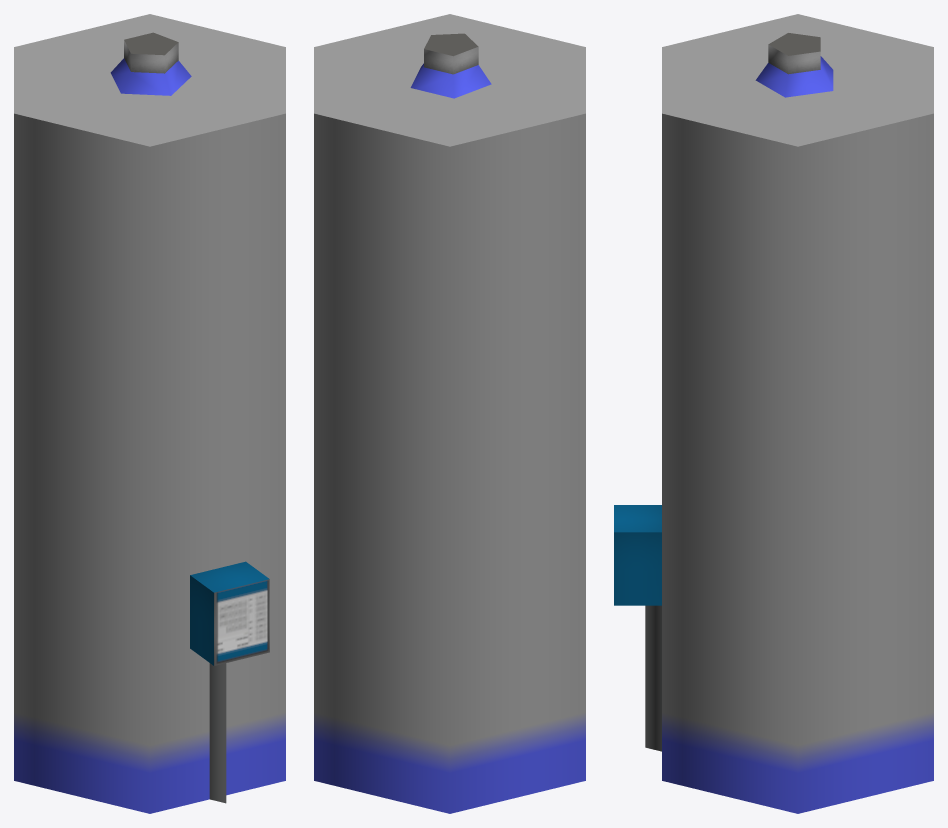
The model's file is WaterHeater.fbx.
3 views of the same model, side by side, from view 1: azimuth 30°, elevation 25°; view 2: azimuth 150°, elevation 25°; view 3: azimuth 270°, elevation 25° (orthographic).
Parts seen in each view (by area): view 1: Maya_File_Assets:TexturedAssetsCurrent:QuentonAssets02:Water; view 2: Maya_File_Assets:TexturedAssetsCurrent:QuentonAssets02:Water; view 3: Maya_File_Assets:TexturedAssetsCurrent:QuentonAssets02:Water.
Part boxes in pixels (<box>): Maya_File_Assets:TexturedAssetsCurrent:QuentonAssets02:Water: <box>14,14,285,813</box>; Maya_File_Assets:TexturedAssetsCurrent:QuentonAssets02:Water: <box>314,14,585,813</box>; Maya_File_Assets:TexturedAssetsCurrent:QuentonAssets02:Water: <box>614,14,933,813</box>.
Bounding box in the file's own units: 0.8056 × 1.99 × 0.8207.
